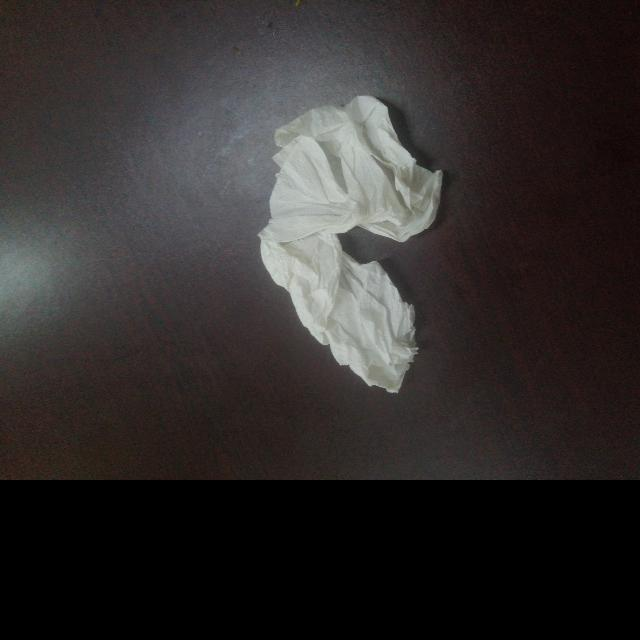kitchen paper: (252, 93, 460, 414)
